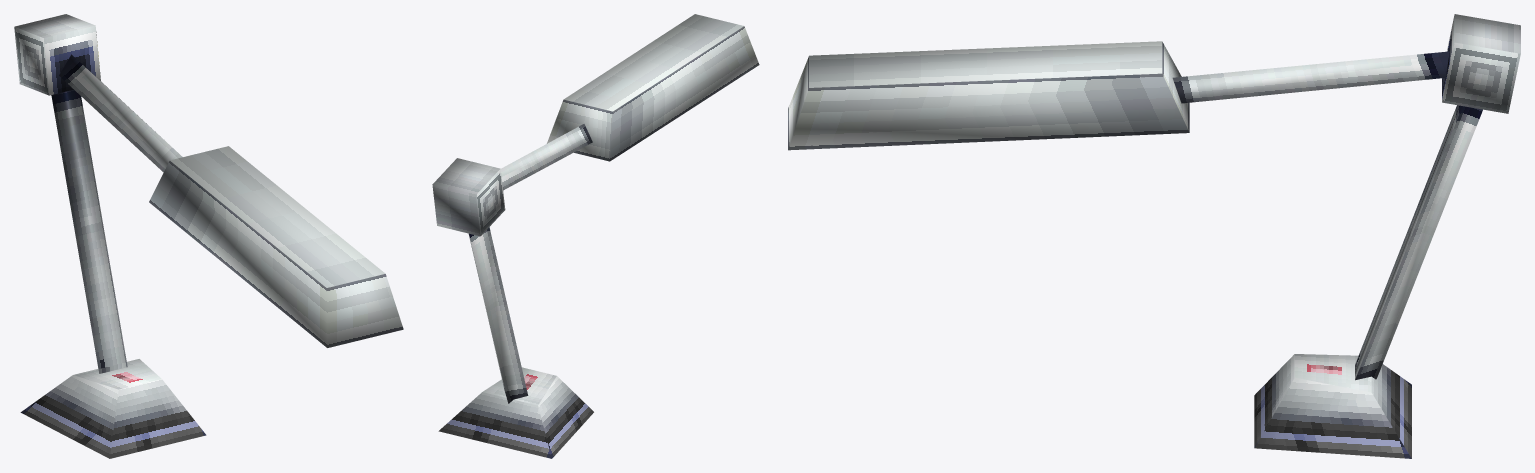
The model's file is a_SCstand01.glb.
3 views of the same model, side by side, from view 1: azimuth 30°, elevation 25°; view 2: azimuth 150°, elevation 25°; view 3: azimuth 270°, elevation 25° (orthographic). The views are drawn at different scales.
Visible parts, largest first — view 1: a_SCstand01; view 2: a_SCstand01; view 3: a_SCstand01.
Boxes of the visible parts, left/top/right/bottom form: a_SCstand01: left=14, top=14, right=403, bottom=458; a_SCstand01: left=432, top=14, right=759, bottom=458; a_SCstand01: left=788, top=14, right=1520, bottom=458.
Bounding box in the file's own units: 0.2441 × 0.6022 × 1.02.
1 material, 1 textured.
